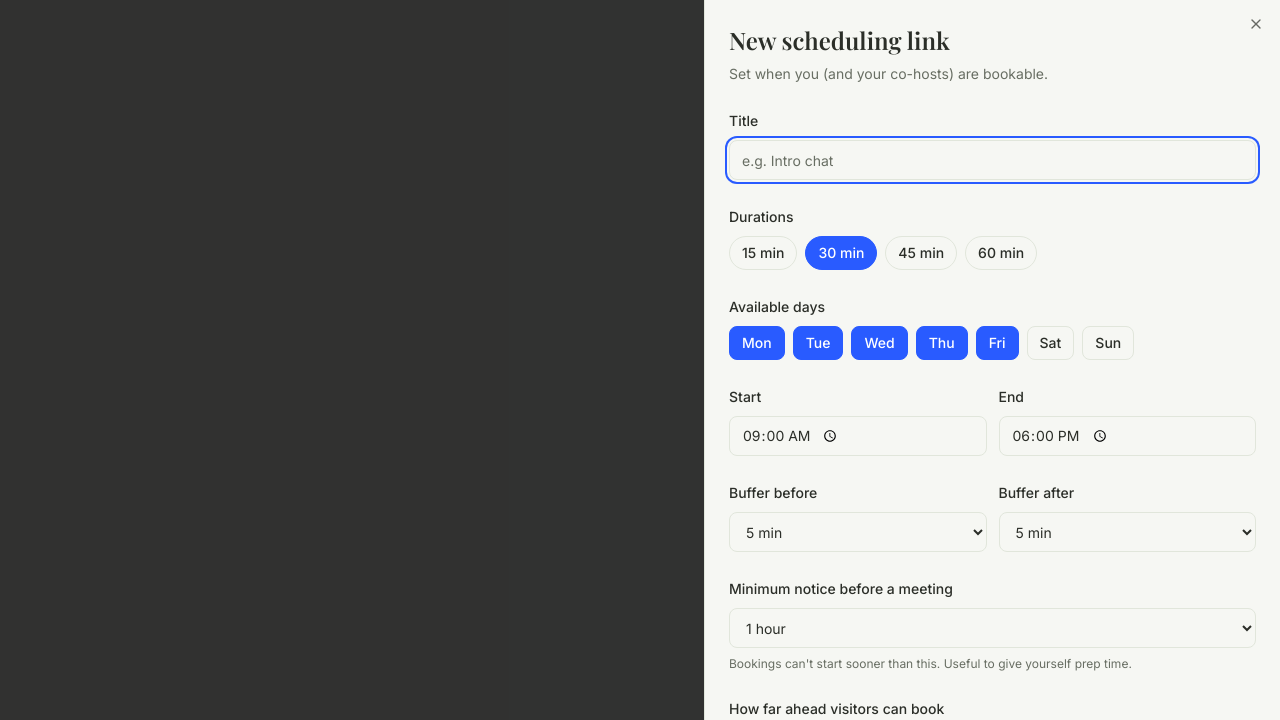
Test: outcome unknown (contract §7.4, AC-19, AC-22) › AC-22: an unknown outcome ended by the deleted refusal does not invalidate on close
Type "Intro" into the field labelled "Title" at (992, 160), box [729,140,1256,180]
(page scrolled)
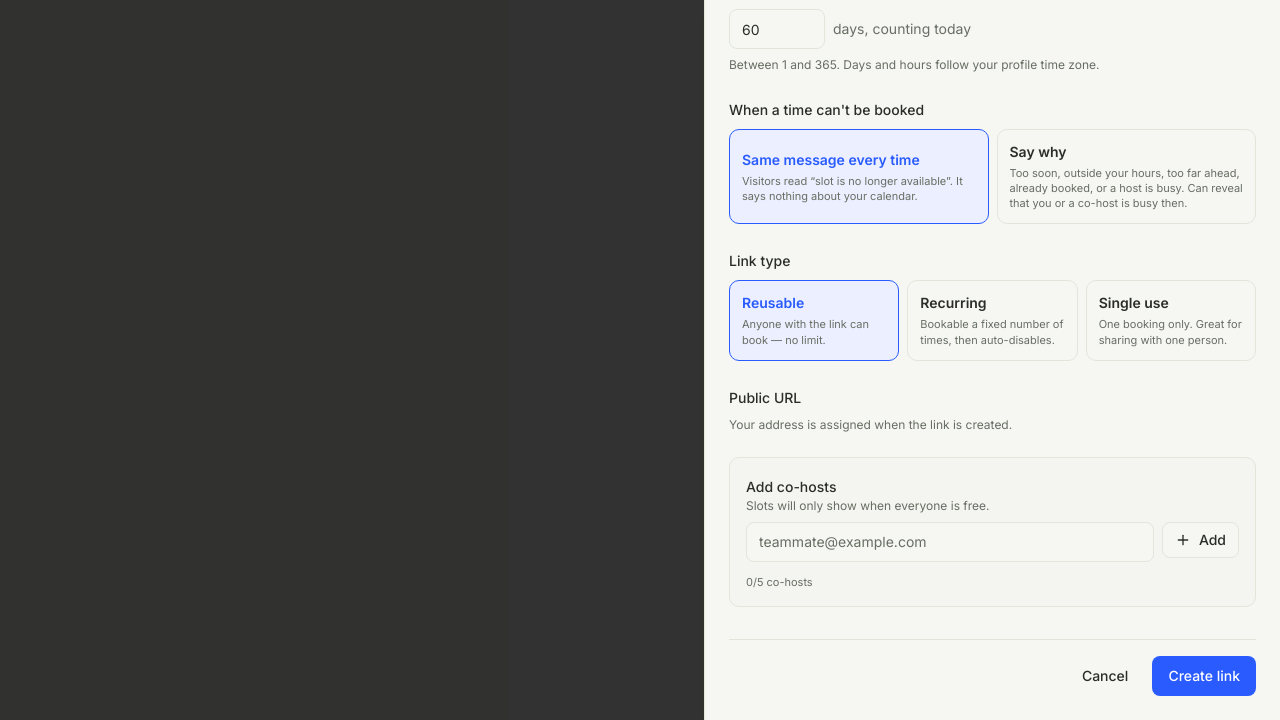
Click the button "Create link" at (1204, 676), box [1152,656,1256,696]
(page scrolled)
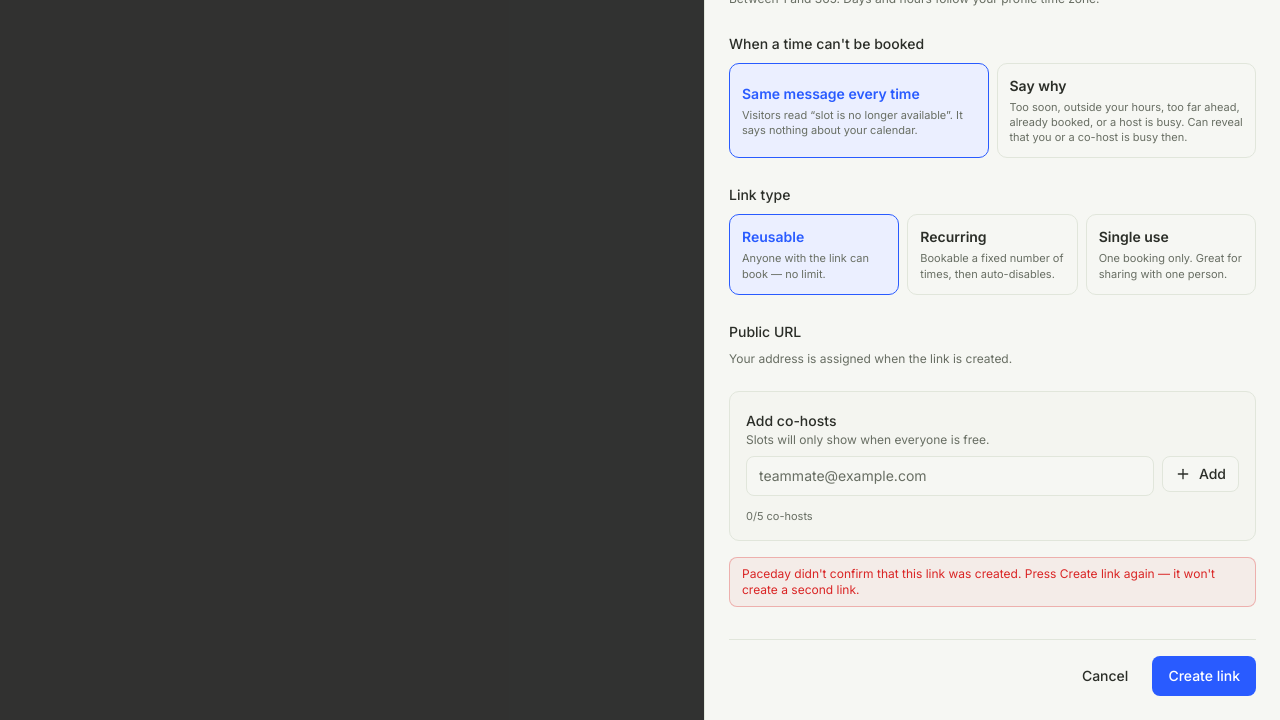
Check: the message shows "Paceday didn't confirm that this link was created. Press Create link again — it won't create a second link.", box [742,566,1215,597]
Click the button "Create link" at (1204, 676), box [1152,656,1256,696]
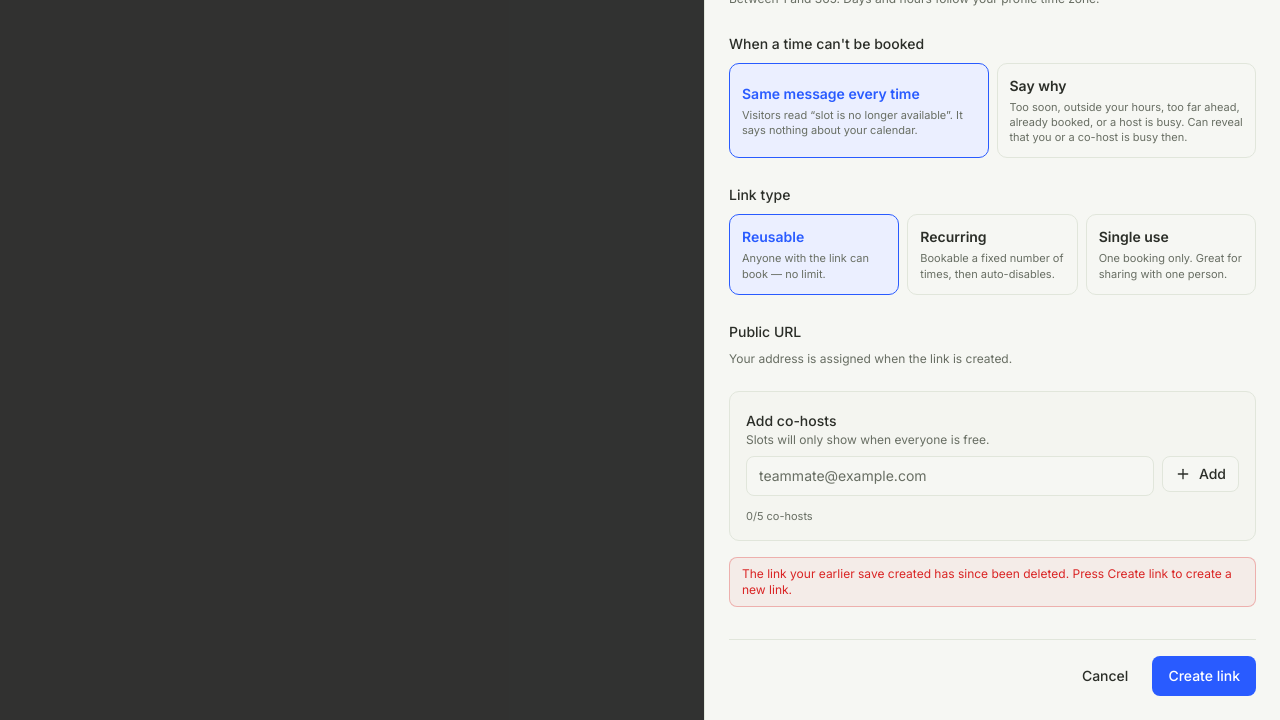
Check: the message shows "The link your earlier save created has since been deleted. Press Create link to create a new link.", box [742,566,1232,597]
